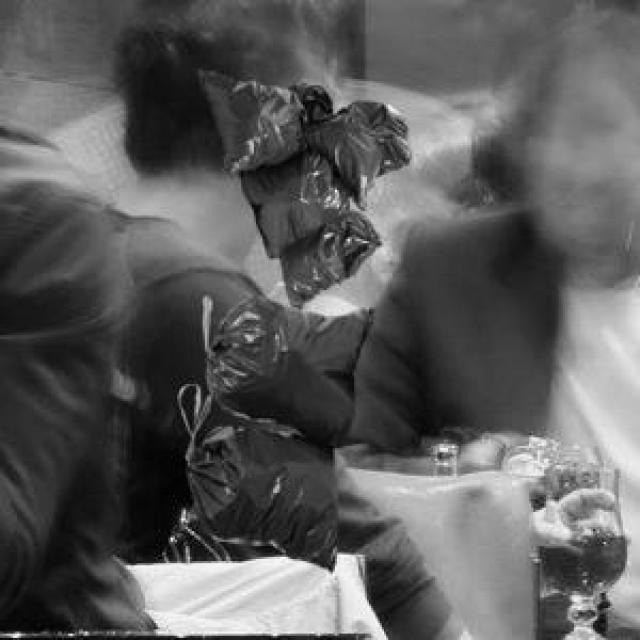miscellaneous trash: (181, 292, 369, 568), (193, 66, 408, 307)
